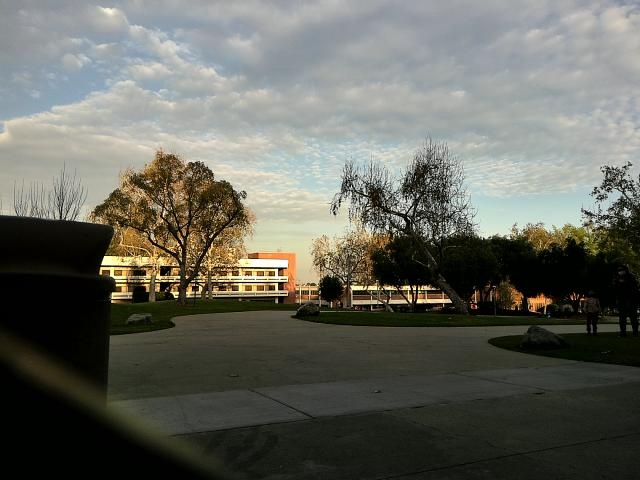trashcan: (1, 209, 124, 480)
